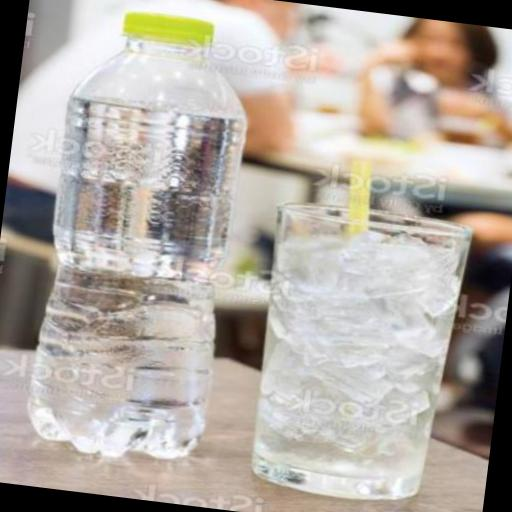Coca: (13, 0, 270, 478)
